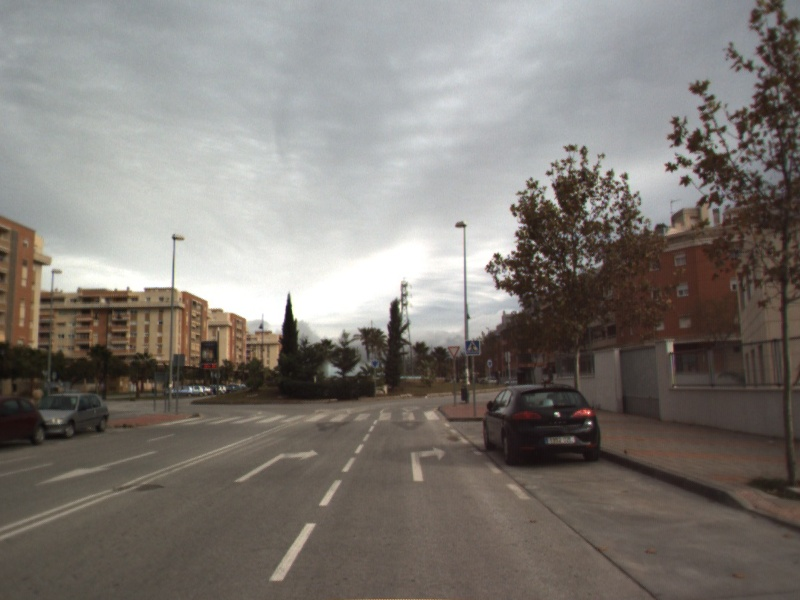RIGHT: (232, 447, 320, 484), (408, 444, 448, 483)
